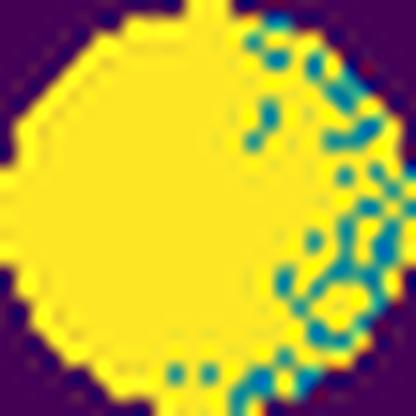Near-full: (0, 0, 347, 416)
